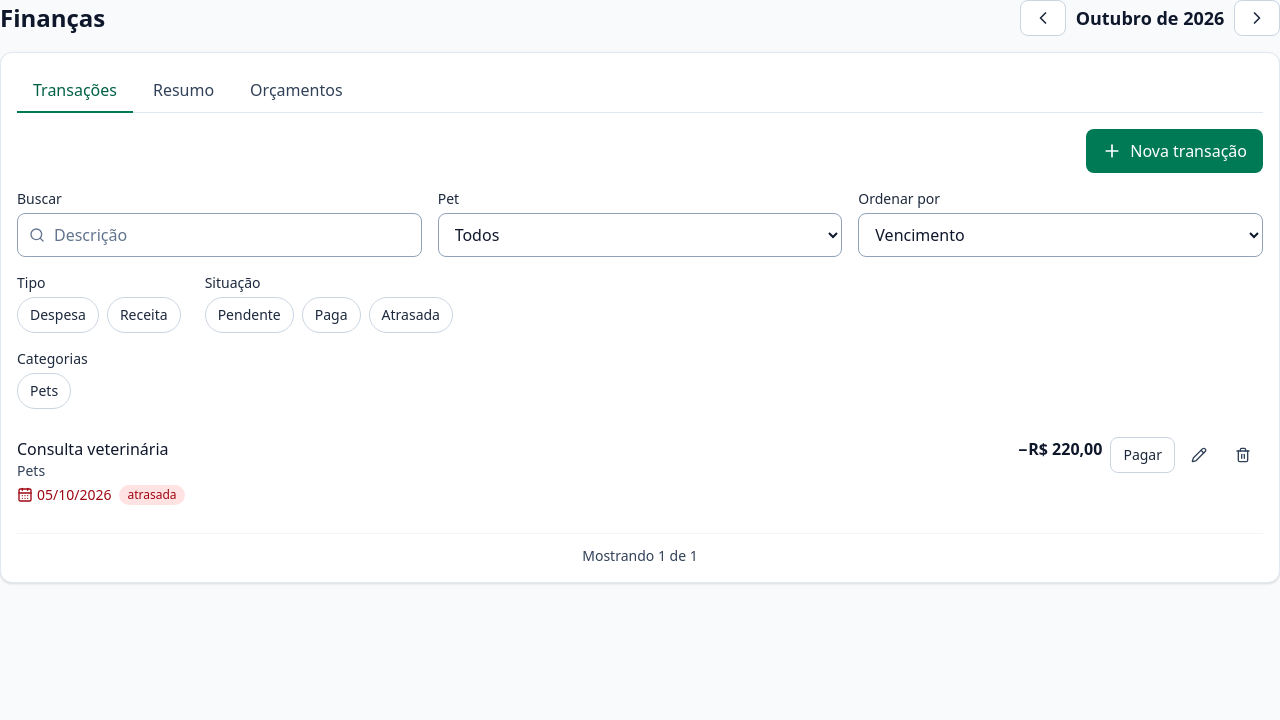
Test case: FinancePage › 'Pagar' sends paid_on and shows the 422 under the date
This screenshot has width=1280, height=720.
expect the text "atrasada" is shown: met, box left=120, top=485, right=185, bottom=505
Click the button with aria-label "Pagar Consulta veterinária": coordinates (1143, 455) left=1110, top=437, right=1175, bottom=473
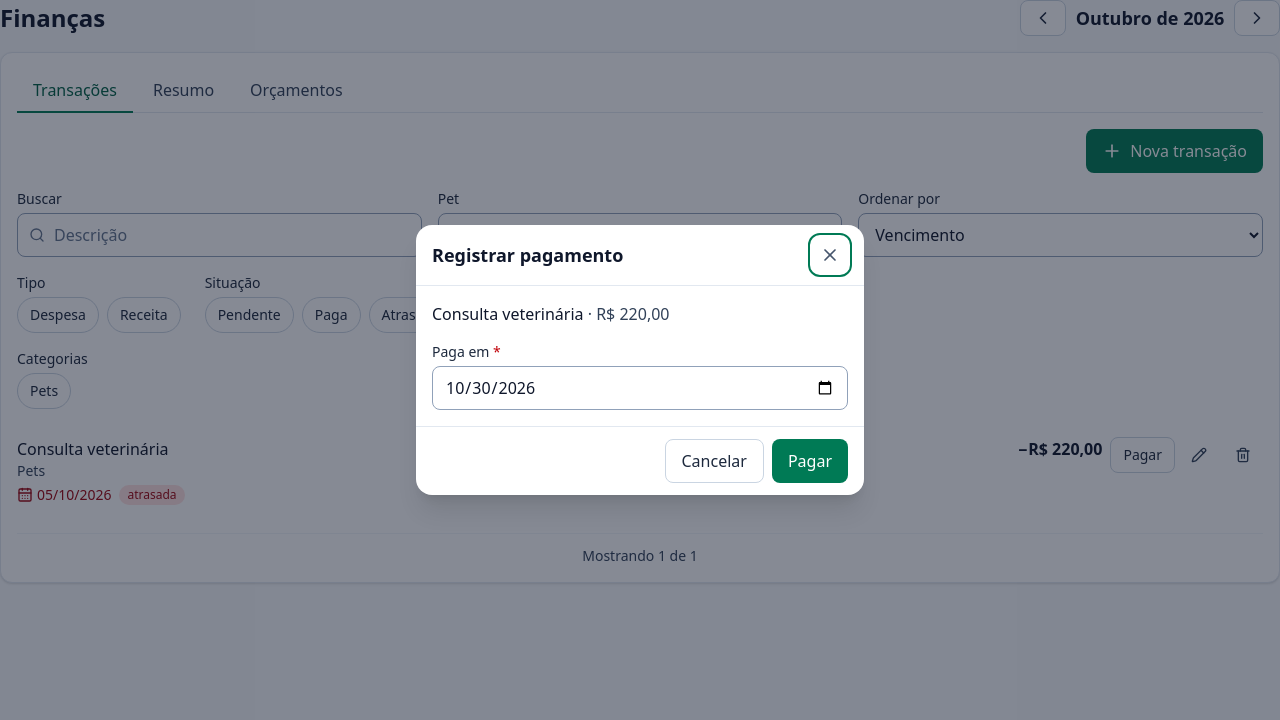
In the date field labelled "Paga em *": coordinates (640, 388) left=432, top=366, right=848, bottom=410, type "2030-01-15"
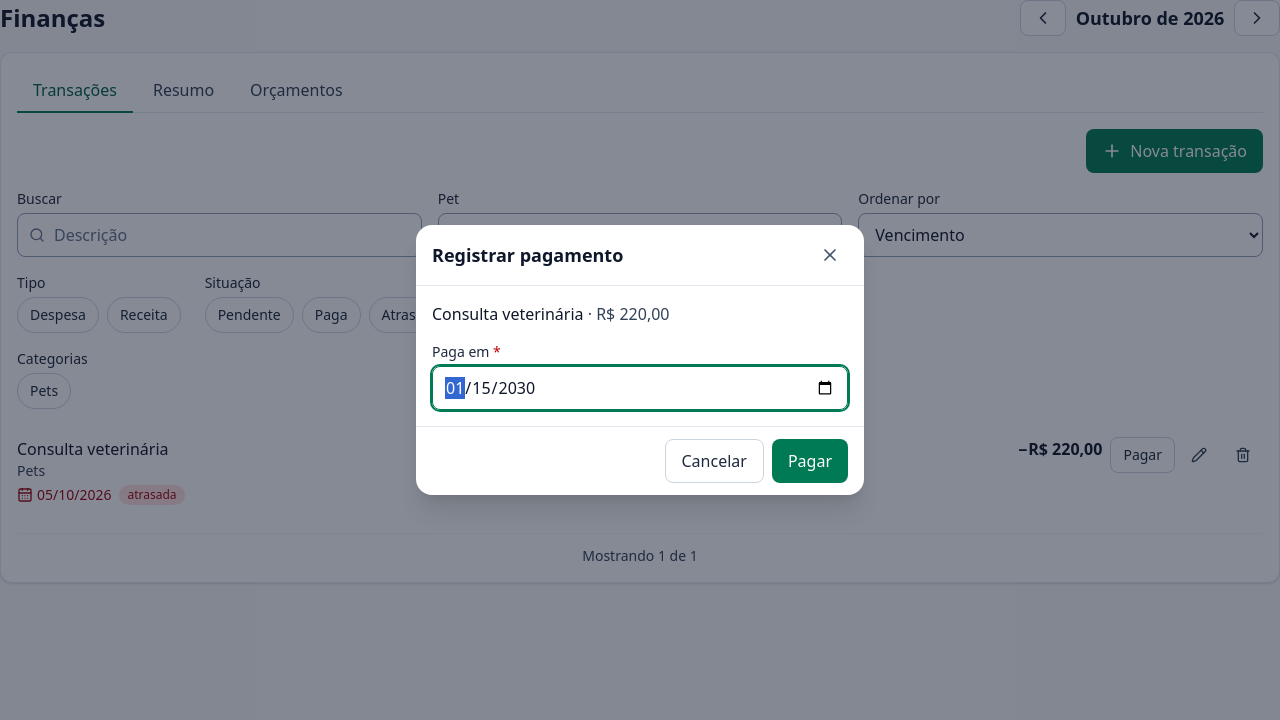
Click the button "Pagar": coordinates (810, 461) left=772, top=439, right=848, bottom=483
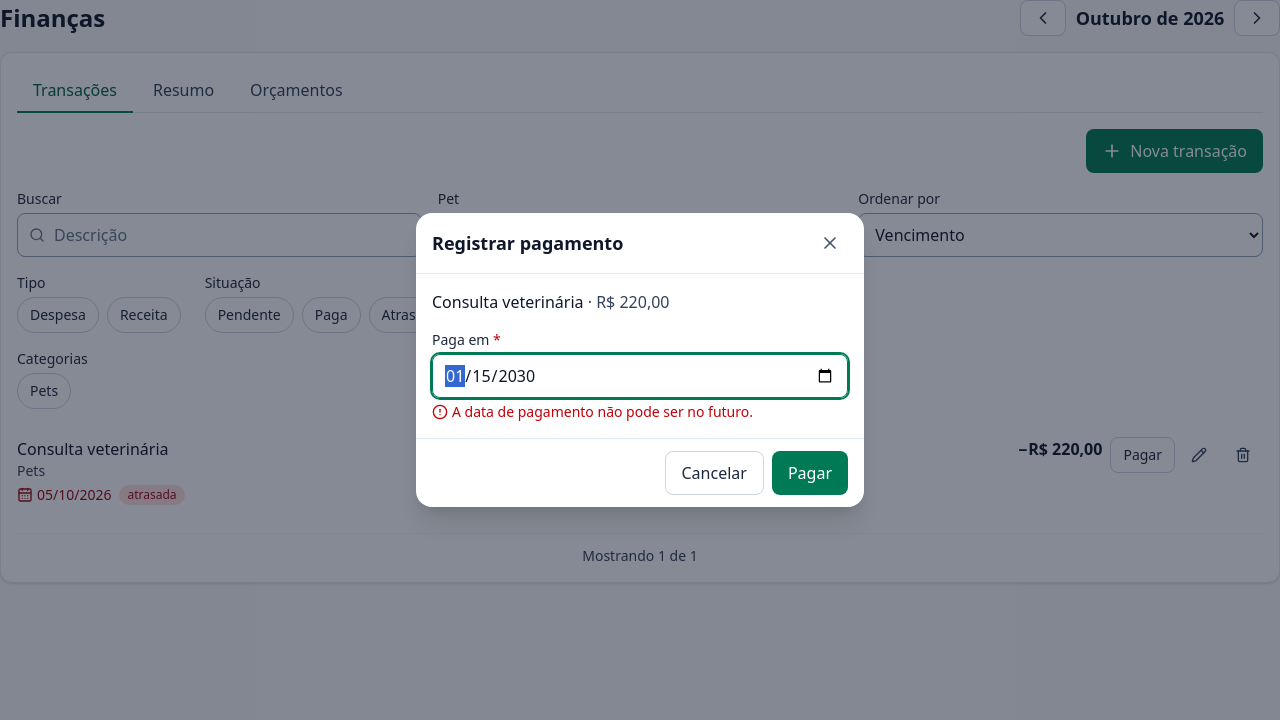
expect the text "A data de pagamento não pode ser no futuro." is shown: met, box left=432, top=402, right=753, bottom=421
